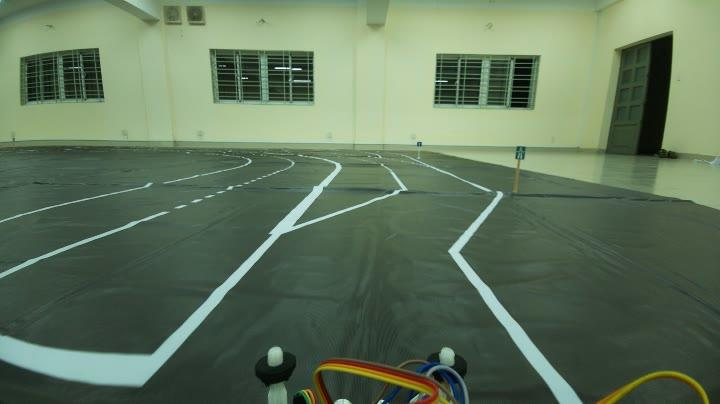highway_entry: (514, 142, 530, 162)
